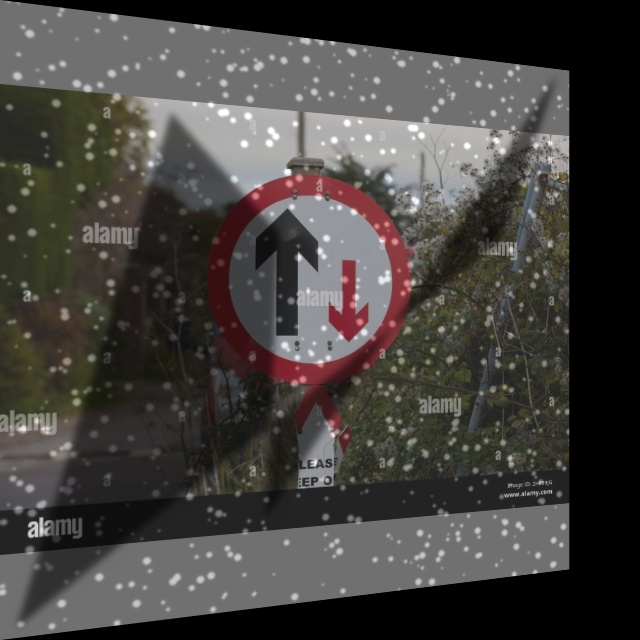Priority_for_Oncoming_Traffic: (207, 167, 411, 387)
